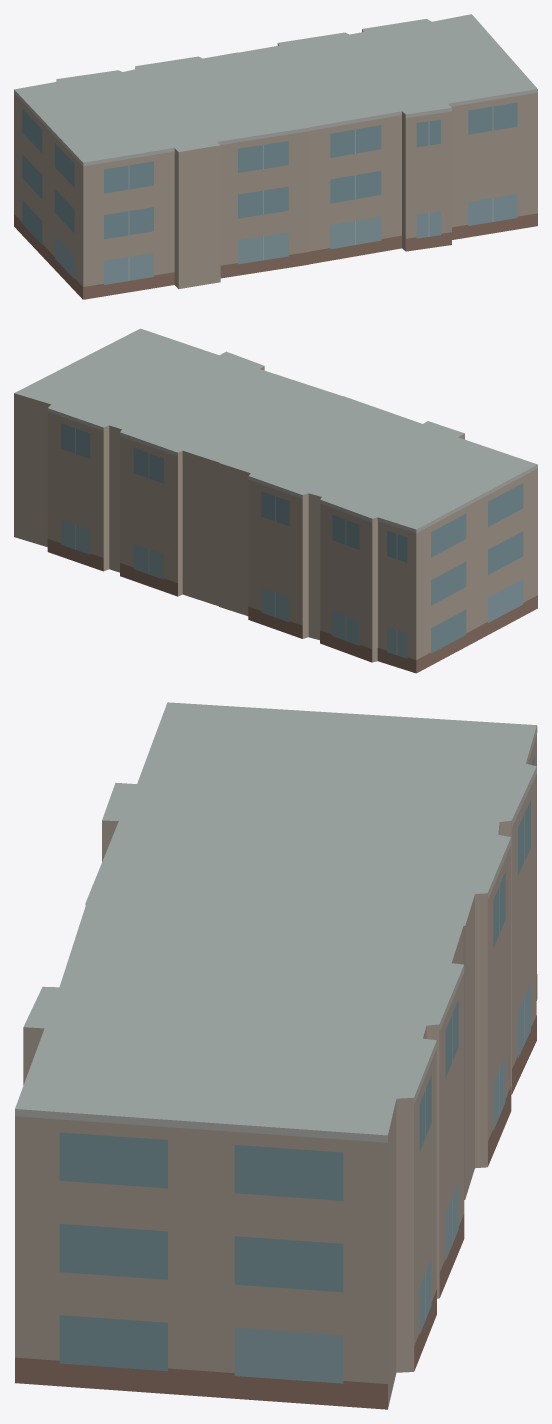
The model's file is survey-upis-32676484.glb.
3 views of the same model, one above another, from view 1: azimuth 30°, elevation 25°; view 2: azimuth 150°, elevation 25°; view 3: azimuth 270°, elevation 25° (orthographic). The views are drawn at different scales.
Parts seen in each view (by area): view 1: survey-upis-32676484.tmp; view 2: survey-upis-32676484.tmp; view 3: survey-upis-32676484.tmp.
Part boxes in pixels (x1,y1,x2,y2): survey-upis-32676484.tmp: [14, 14, 537, 299]; survey-upis-32676484.tmp: [14, 328, 537, 673]; survey-upis-32676484.tmp: [15, 702, 537, 1409].
Bounding box in the file's own units: 31.02 × 9.15 × 15.81.
